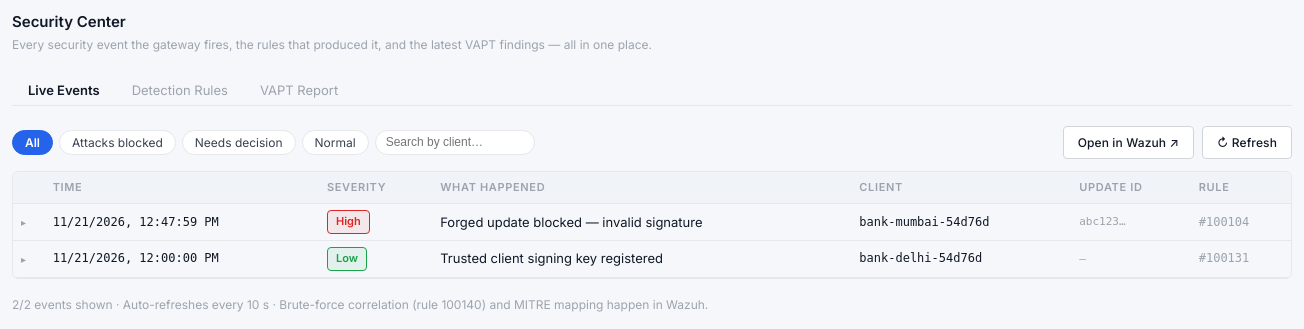
Scenario: SecurityCenter — tab rendering › Detection Rules tab renders rule rows on click
Click the button "Detection Rules": (180, 89) [116,74,244,105]
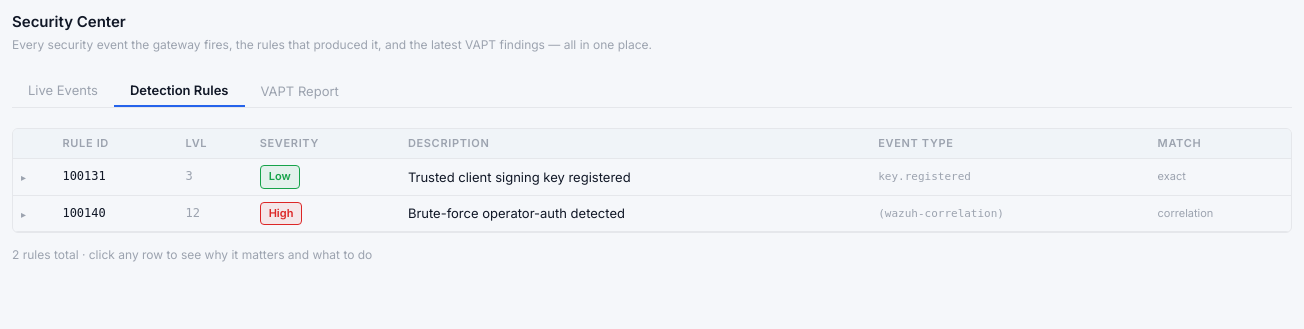
Check: the text "100131" is shown, box [54,159,178,195]
Check: the text "100140" is shown, box [54,195,178,232]
Check: the text "correlation" is shown, box [1150,195,1291,232]
